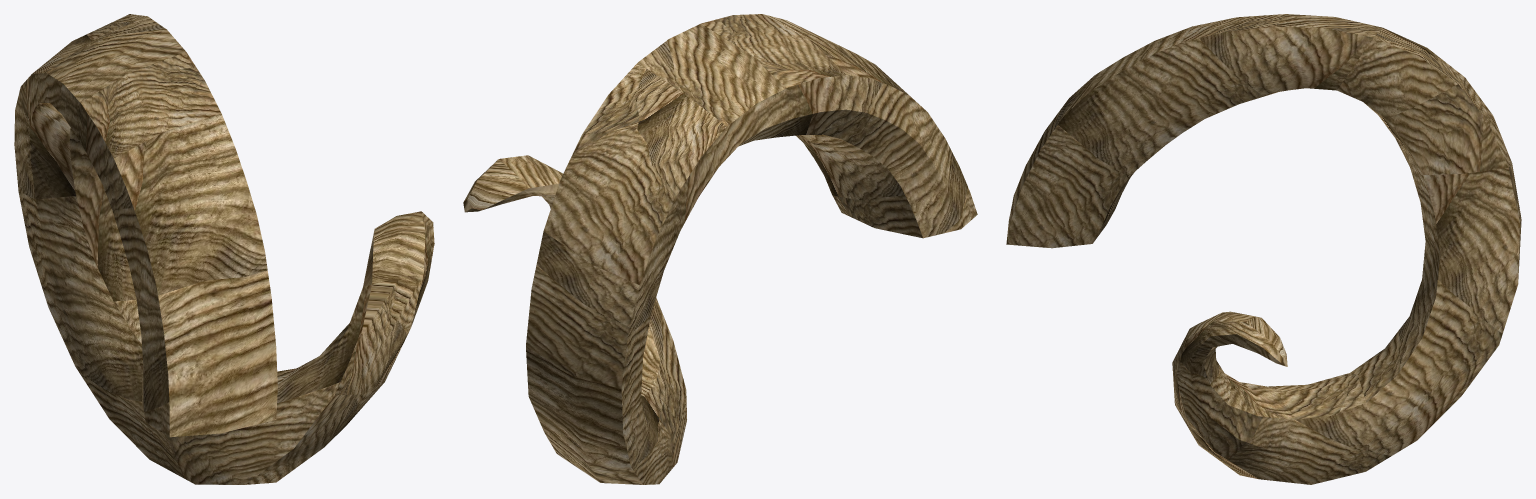
File: cuernito de cabra Final.fbx
3 renders of one model, left to right at view 1: azimuth 30°, elevation 25°; view 2: azimuth 150°, elevation 25°; view 3: azimuth 270°, elevation 25°, orthographic. The views are drawn at different scales.
Visible parts, largest first — view 1: Plane; view 2: Plane; view 3: Plane.
Boxes of the visible parts, left/top/right/bottom form: Plane: left=14, top=14, right=434, bottom=484; Plane: left=463, top=14, right=977, bottom=484; Plane: left=1006, top=14, right=1521, bottom=484.
Bounding box in the file's own units: 787 × 874 × 945.
Materials: 1 (1 with a texture image).
